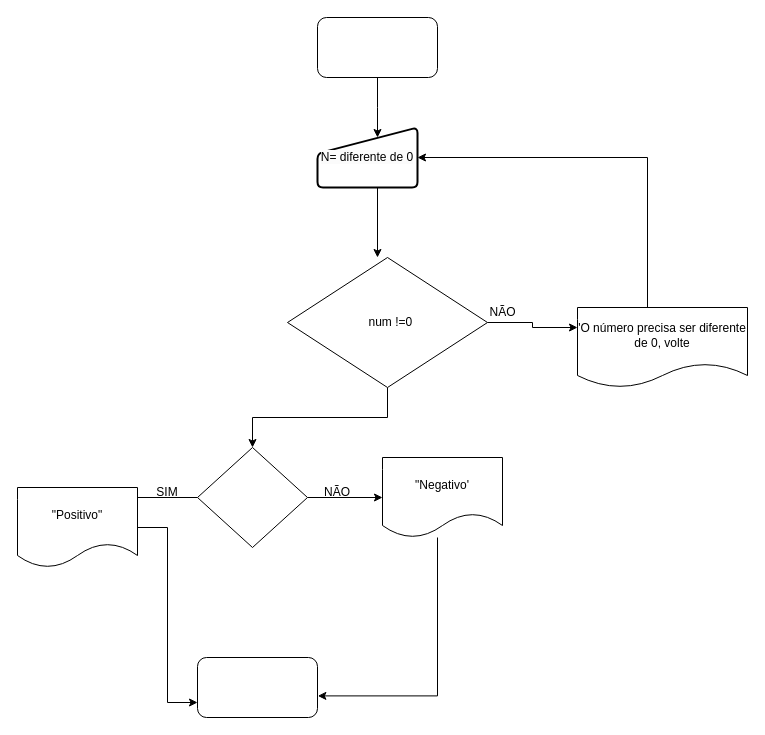
The diagram is 765 pixels wide and 735 high, and some of its shapes have lost their labels. Here are the shapes that lost their labels. From the top down, the box of each, then its label:
(316, 16, 438, 78): início
(196, 446, 308, 548): num > 0
(196, 656, 318, 718): Fim
